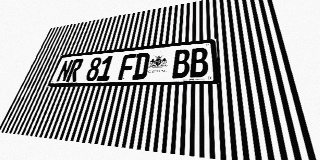1: (96, 56, 115, 81)
8: (85, 57, 103, 81)
B: (190, 47, 208, 78), (172, 49, 190, 78)
D: (132, 52, 150, 80)
F: (118, 54, 136, 80)
N: (55, 59, 74, 82)
R: (66, 58, 84, 82)
